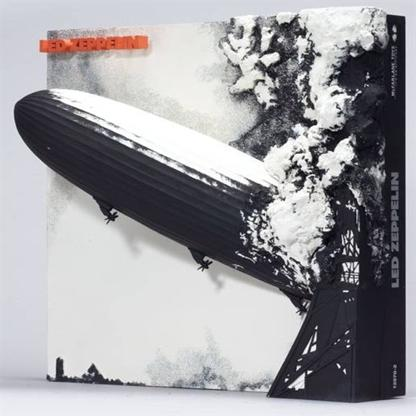Airship: (13, 87, 299, 287)
